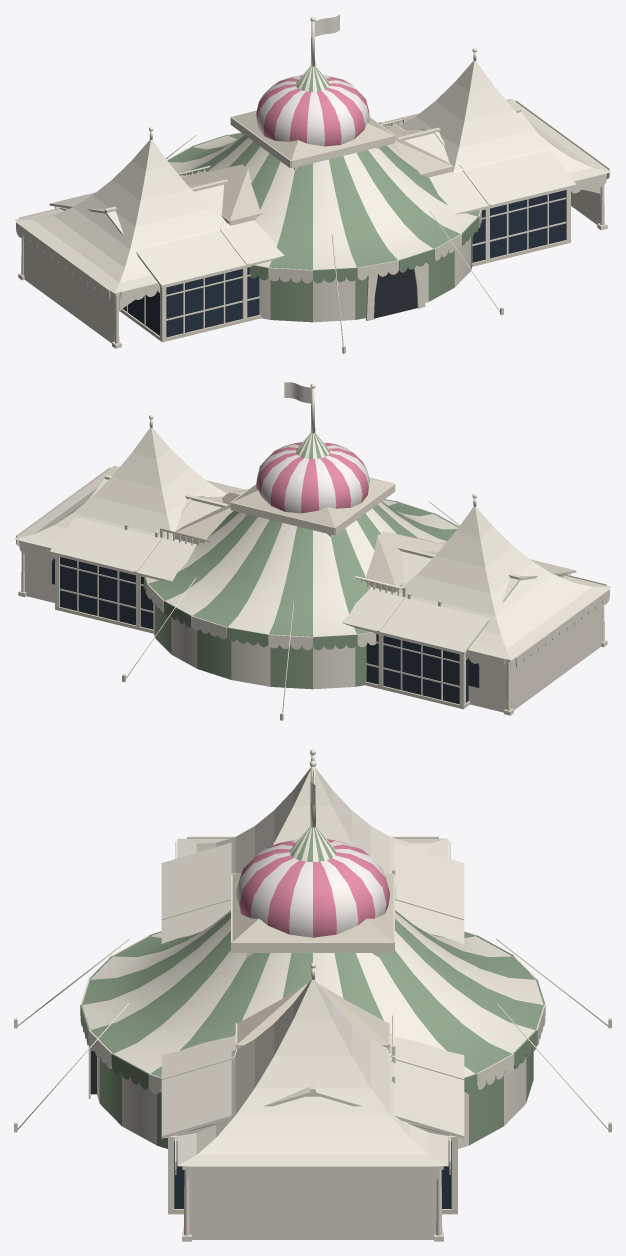
Rendered from site_props.glb.
3 renders of one model, top to bottom at view 1: azimuth 30°, elevation 25°; view 2: azimuth 150°, elevation 25°; view 3: azimuth 270°, elevation 25°, orthographic. The views are drawn at different scales.
Parts seen in each view (by area): view 1: big_top, marquee_peaks, marquee_clearspan, balloon_pod, stand_covered, viewing_tower; view 2: big_top, marquee_peaks, marquee_clearspan, balloon_pod, stand_covered, viewing_tower, stand_open; view 3: marquee_peaks, big_top, marquee_clearspan, balloon_pod, viewing_tower, stand_covered.
Boxes of the visible parts, x1=… form: big_top: x1=166, y1=14, x2=503, y2=353; marquee_peaks: x1=14, y1=48, x2=611, y2=348; marquee_clearspan: x1=49, y1=108, x2=576, y2=342; balloon_pod: x1=256, y1=75, x2=369, y2=146; stand_covered: x1=181, y1=125, x2=453, y2=225; viewing_tower: x1=230, y1=110, x2=395, y2=169; big_top: x1=122, y1=382, x2=459, y2=720; marquee_peaks: x1=14, y1=415, x2=611, y2=715; marquee_clearspan: x1=49, y1=475, x2=576, y2=709; balloon_pod: x1=256, y1=442, x2=369, y2=513; stand_covered: x1=172, y1=491, x2=444, y2=592; viewing_tower: x1=230, y1=477, x2=395, y2=536; stand_open: x1=124, y1=524, x2=441, y2=606; marquee_peaks: x1=175, y1=749, x2=450, y2=1241; big_top: x1=14, y1=760, x2=611, y2=1148; marquee_clearspan: x1=161, y1=842, x2=464, y2=1214; balloon_pod: x1=236, y1=839, x2=389, y2=937; viewing_tower: x1=231, y1=873, x2=394, y2=957; stand_covered: x1=235, y1=984, x2=390, y2=1049.
Size of the model in its own units: 24.75 by 11.27 by 18.97.
